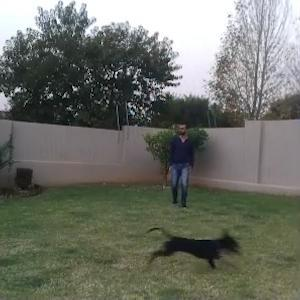follow: (168, 118, 195, 211)
